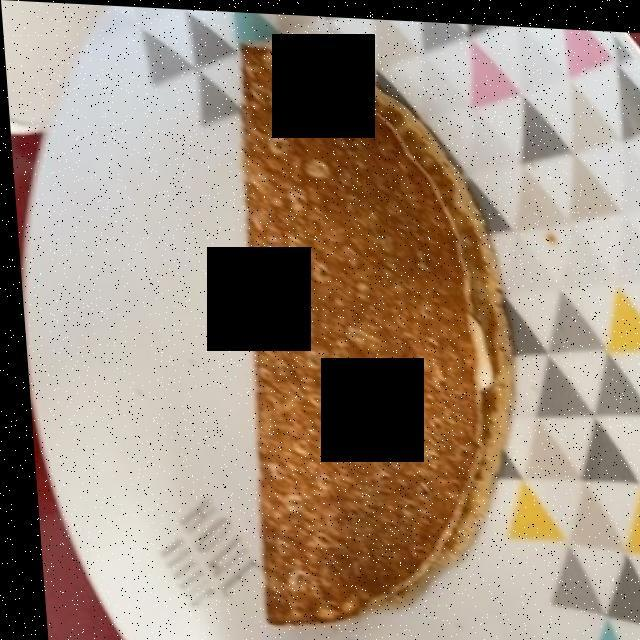crepe: (243, 56, 502, 620)
